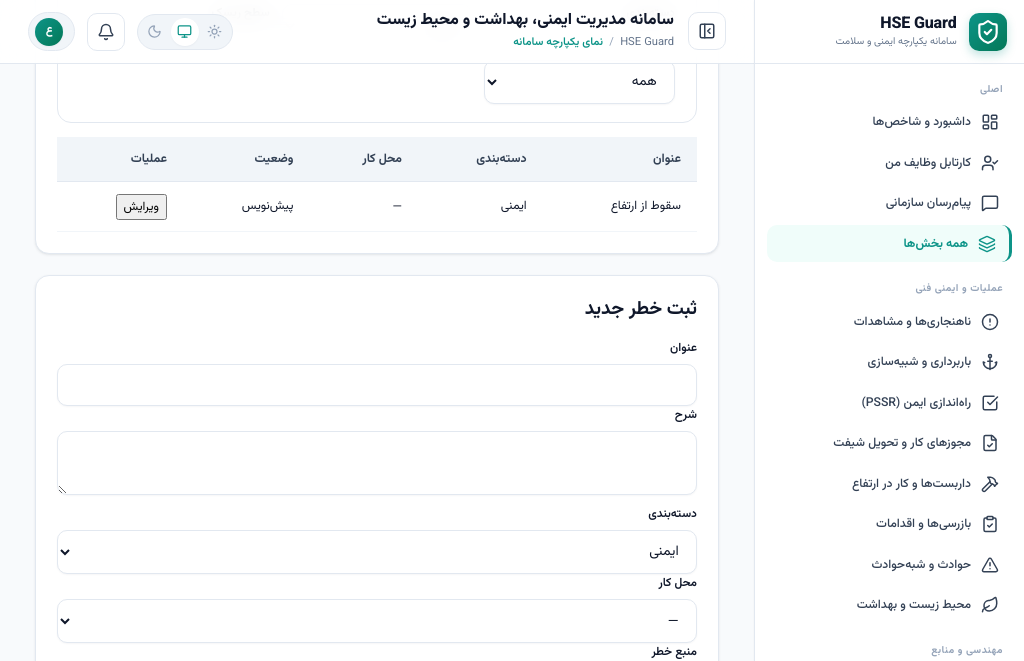
Scenario: Hazard form › creates a hazard and reloads the list
(page scrolled)
In the field labelled "عنوان": x=377, y=385 [57, 364, 697, 406], type "خطر جدید"
(page scrolled)
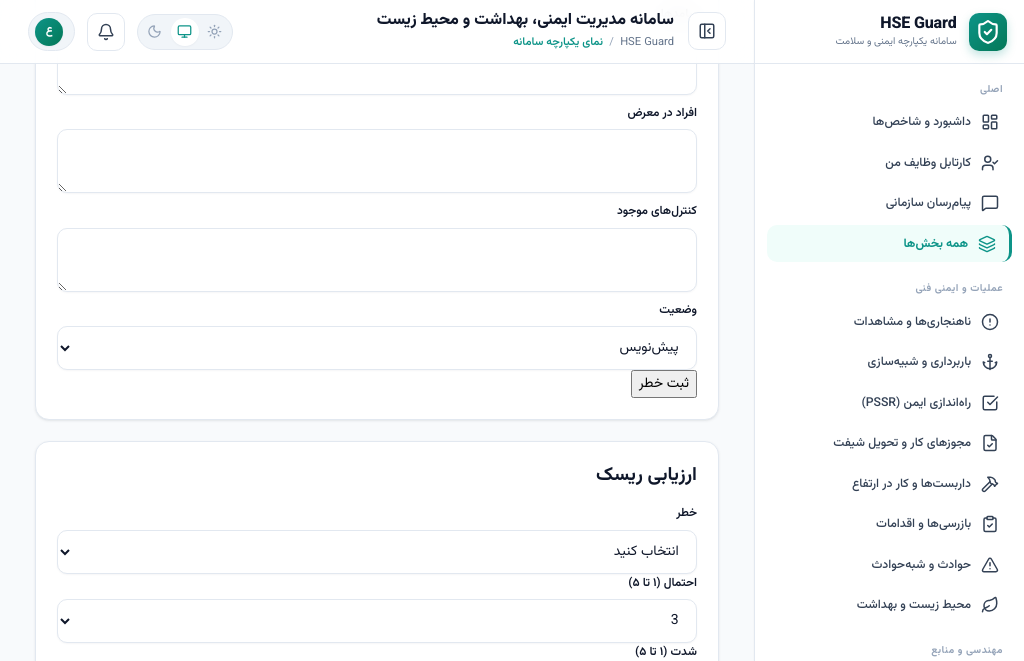
Click the button "ثبت خطر": x=664, y=384 [631, 370, 697, 398]
(page scrolled)
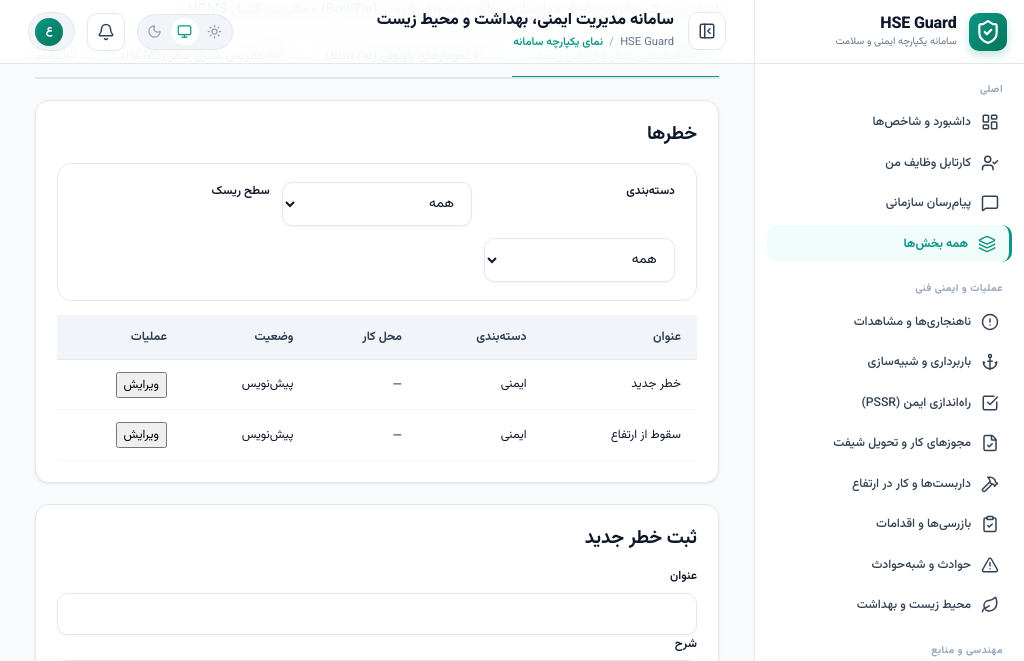
Check: the text "خطر جدید" is shown, box [543, 359, 697, 410]
